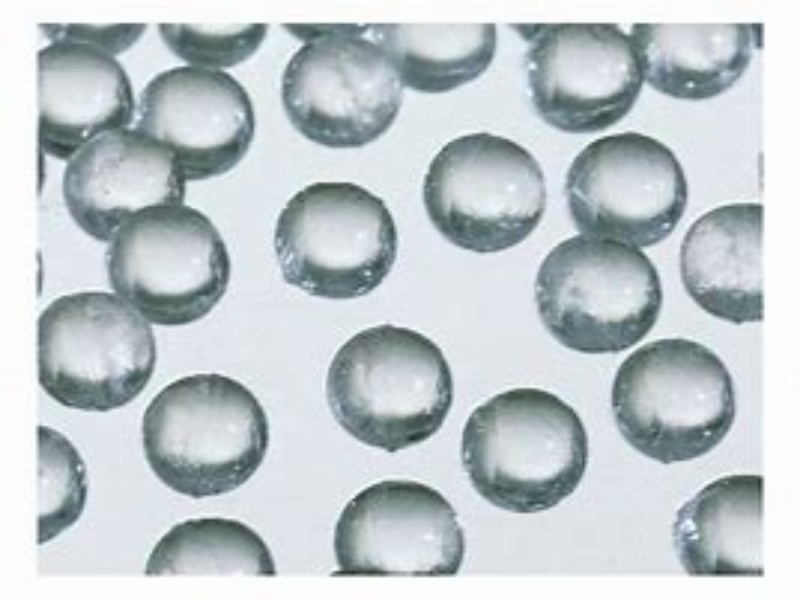bead: (460, 388, 599, 516), (325, 321, 454, 452), (610, 336, 738, 466), (107, 202, 238, 329), (148, 369, 272, 502), (534, 236, 665, 355), (138, 59, 264, 182), (423, 132, 550, 254), (40, 290, 161, 413), (275, 179, 398, 300), (280, 31, 407, 148), (60, 124, 192, 236), (565, 133, 687, 247), (527, 19, 645, 132), (336, 478, 468, 578), (38, 39, 140, 151), (679, 202, 768, 328), (631, 20, 760, 104), (671, 471, 767, 578), (141, 516, 281, 577), (37, 419, 90, 543)
